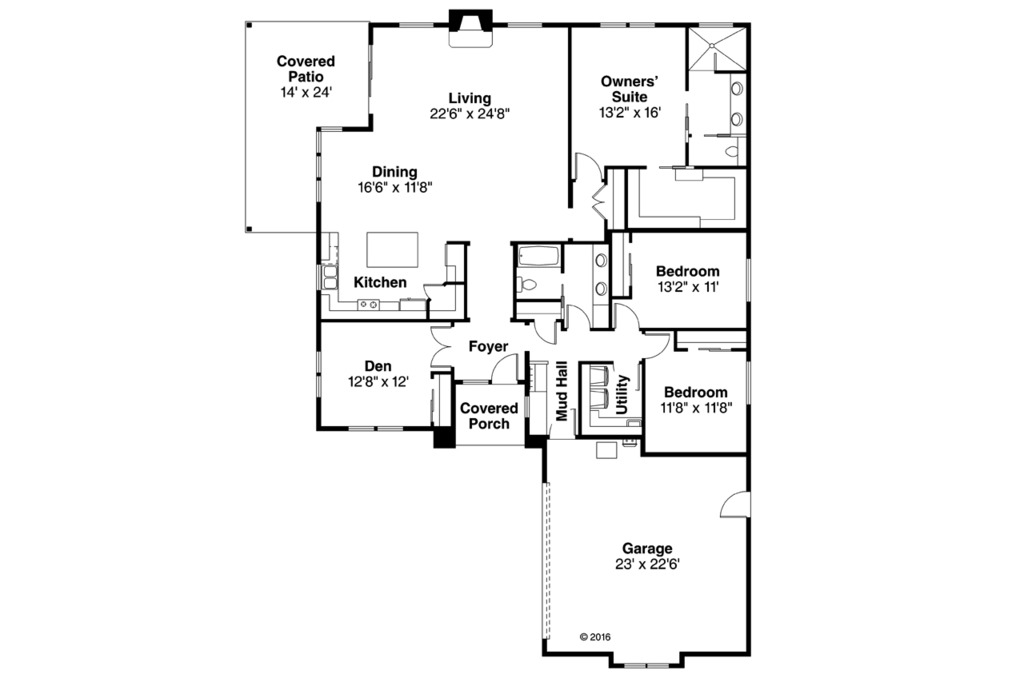door: (421, 322, 464, 376), (548, 409, 587, 450), (486, 355, 525, 390), (641, 333, 681, 364), (530, 312, 558, 351), (719, 487, 752, 520), (617, 303, 646, 336), (592, 178, 611, 226), (561, 300, 586, 334), (577, 155, 602, 184), (412, 280, 442, 301)
large_sink: (722, 135, 751, 164), (515, 277, 542, 300)
small_sink: (724, 74, 750, 138), (590, 240, 615, 302)
tub: (518, 246, 566, 265)
twin_sink: (308, 261, 340, 289)
window: (742, 253, 759, 311), (744, 355, 760, 414), (311, 341, 326, 398), (315, 122, 323, 210), (598, 21, 658, 32), (347, 424, 405, 433), (506, 22, 551, 31), (621, 660, 673, 667)
